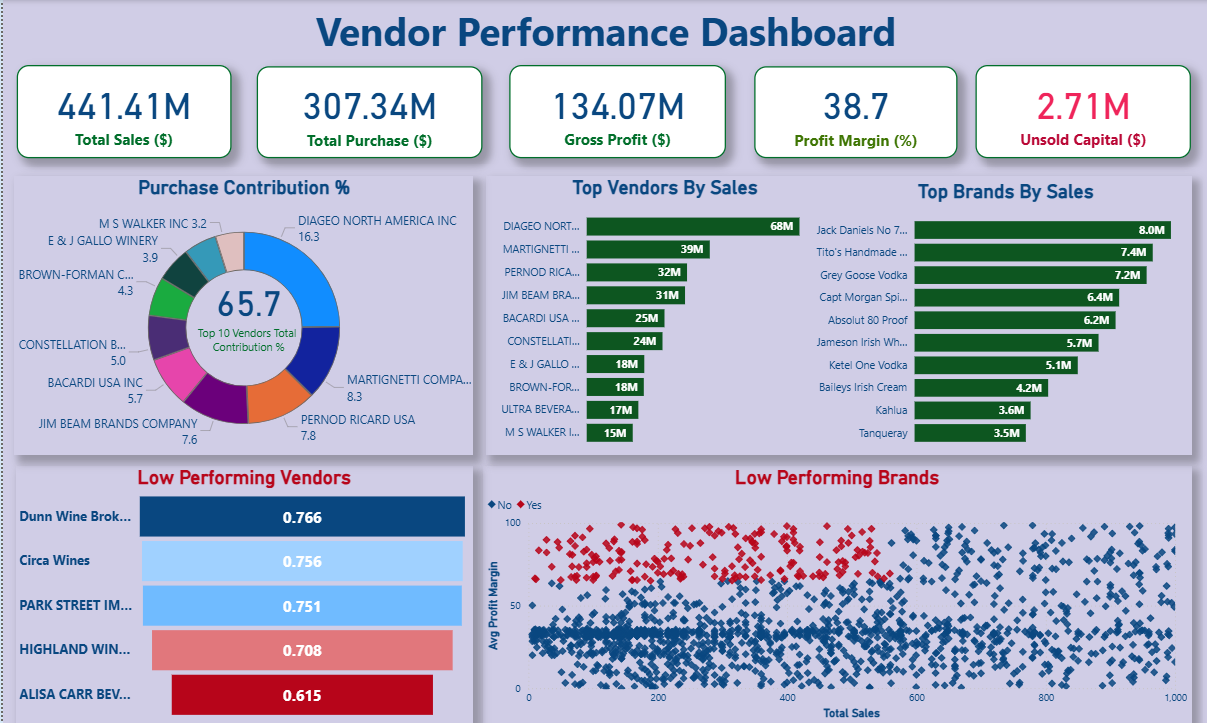

What the dashboard file says about the page in this screenshot:
{"tool":"powerbi","page":{"name":"Page 1","canvas":[1500,900],"ordinal":0},"visuals":[{"type":"shape","box":[599.8,218.7,878,347.3],"z":0},{"type":"card","fields":{"Values":["Sum(vendor_sales_summary.TotalPurchaseDollars)"]},"box":[315.8,82.4,280.9,114.6],"z":1000},{"type":"card","fields":{"Values":["Sum(vendor_sales_summary.TotalSalesDollars)"]},"box":[16.8,81,266.9,116],"z":2000},{"type":"card","fields":{"Values":["Sum(vendor_sales_summary.GrossProfit)"]},"box":[630.2,81,269.7,116],"z":3000},{"type":"card","fields":{"Values":["Avg(vendor_sales_summary.ProfitMargin)"]},"box":[934.8,82.4,252.9,114.6],"z":4000},{"type":"card","fields":{"Values":["Sum(vendor_sales_summary.UnsoldCapital)"]},"box":[1210.1,81,268.3,116],"z":5000},{"type":"textbox","box":[0,0,1500,83],"z":6000},{"type":"donutChart","title":"Purchase Contribution % ","fields":{"Category":["PurchaseContribution.VendorName"],"Y":["Sum(PurchaseContribution.PurchaseContribution%)"]},"box":[14.5,218.7,570.9,347.3],"z":7000},{"type":"card","fields":{"Values":["Sum(PurchaseContribution.PurchaseContribution%)"]},"box":[211.8,266.7,188.2,233.3],"z":8000},{"type":"barChart","title":"Top Vendors By Sales","fields":{"Category":["vendor_sales_summary.VendorName"],"Y":["Sum(vendor_sales_summary.TotalSalesDollars)"]},"box":[603,218.7,440.6,347.3],"z":9000},{"type":"barChart","title":"Top Brands By Sales","fields":{"Category":["vendor_sales_summary.Description"],"Y":["Sum(vendor_sales_summary.TotalSalesDollars)"]},"box":[995.4,223.5,504.9,342.5],"z":10000},{"type":"funnel","title":"Low Performing Vendors","fields":{"Category":["LowTurnoverVendor.VendorName"],"Y":["Avg(LowTurnoverVendor.AvgStockTurnOver)"]},"box":[16.1,580.5,569.3,320],"z":11000},{"type":"scatterChart","title":"Low Performing Brands","fields":{"X":["Sum(BrandPerformance.TotalSales)"],"Y":["Sum(BrandPerformance.AvgProfitMargin)"],"Series":["BrandPerformance.TargetBrand"],"Category":["BrandPerformance.Description"]},"box":[596.6,580.5,881.2,320],"z":12000}]}

Visuals, with their boxes in screenshot pixels (x1, y1, x2, y2), scaled from the page's 1500x900 canvas onto the 1207x723 screenshot:
shape: crop(483, 176, 1189, 455)
card - Sum(vendor_sales_summary.TotalPurchaseDollars): crop(254, 66, 480, 158)
card - Sum(vendor_sales_summary.TotalSalesDollars): crop(14, 65, 228, 158)
card - Sum(vendor_sales_summary.GrossProfit): crop(507, 65, 724, 158)
card - Avg(vendor_sales_summary.ProfitMargin): crop(752, 66, 956, 158)
card - Sum(vendor_sales_summary.UnsoldCapital): crop(974, 65, 1190, 158)
textbox: crop(0, 0, 1206, 67)
"Purchase Contribution % " donutChart: crop(12, 176, 471, 455)
card - Sum(PurchaseContribution.PurchaseContribution%): crop(170, 214, 322, 402)
"Top Vendors By Sales" barChart: crop(485, 176, 840, 455)
"Top Brands By Sales" barChart: crop(801, 180, 1206, 455)
"Low Performing Vendors" funnel: crop(13, 466, 471, 722)
"Low Performing Brands" scatterChart: crop(480, 466, 1189, 722)
